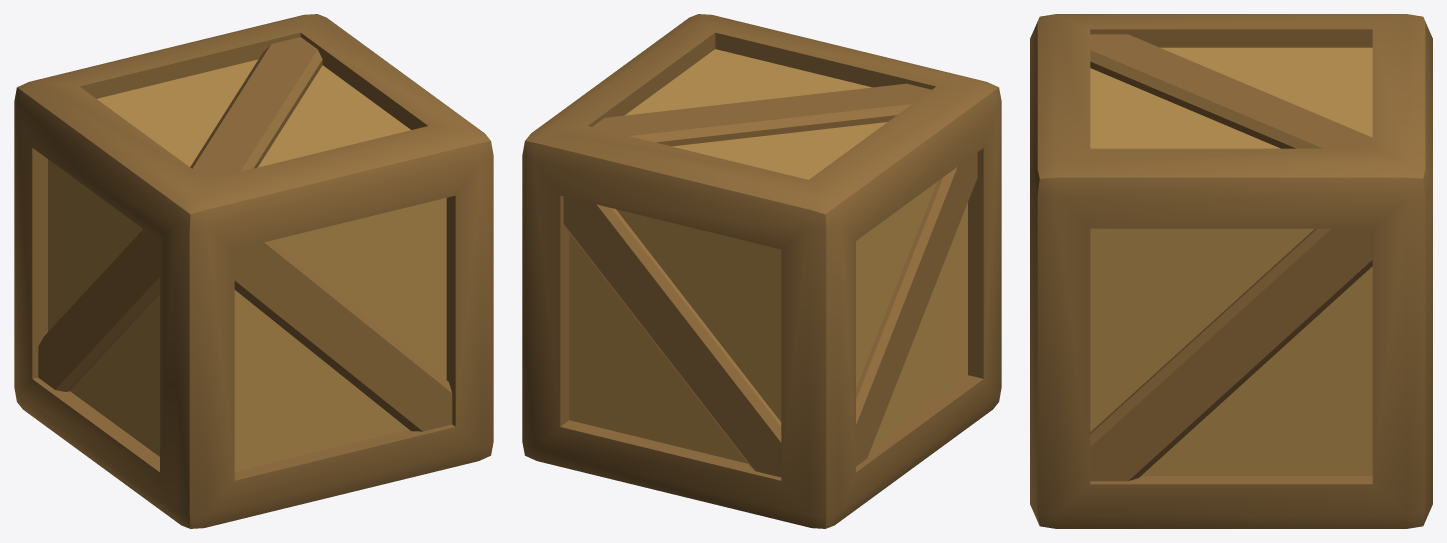
The model's file is crate.glb.
3 renders of one model, left to right at view 1: azimuth 30°, elevation 25°; view 2: azimuth 150°, elevation 25°; view 3: azimuth 270°, elevation 25°, orthographic. The views are drawn at different scales.
Visible parts, largest first — view 1: Crate; view 2: Crate; view 3: Crate.
Part boxes in pixels (bbox=[...]): Crate: bbox=[14, 14, 493, 528]; Crate: bbox=[522, 14, 1001, 528]; Crate: bbox=[1030, 14, 1432, 528].
Bounding box in the file's own units: 1.2 × 1.2 × 1.2.
Materials: 1 (1 with a texture image).
